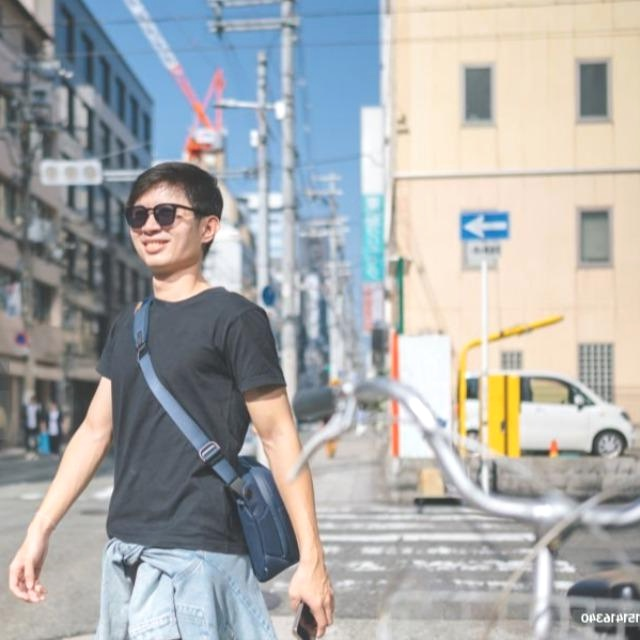Sin_Casco_Mascarrilla: (125, 164, 225, 276)
Sin_Chaleco: (99, 288, 278, 541)
